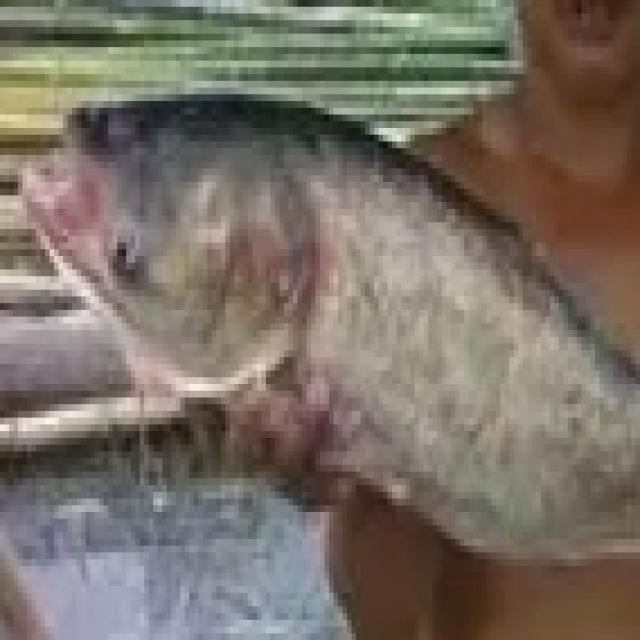Big-Head-Carp: (16, 36, 636, 632)
